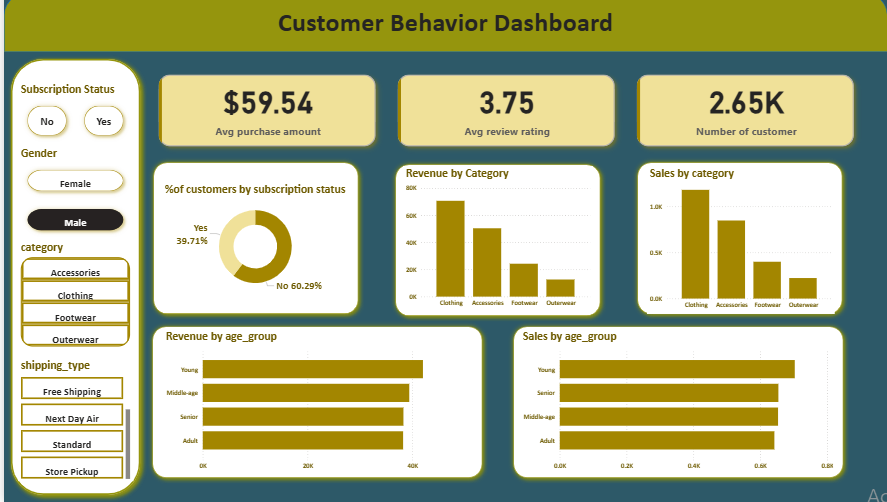

Layout of this report page (visuals, bound fields, positions):
{"tool":"powerbi","page":{"name":"Page 1","canvas":[1600,920],"ordinal":0},"visuals":[{"type":"cardVisual","fields":{"Data":["customer_behavior customer.Avd purchase amount","customer_behavior customer.Avg review rating","customer_behavior customer.Number of customer"]},"box":[259.6,125.5,1302.1,172.3],"z":0},{"type":"shape","box":[0,0,1600,105],"z":1000},{"type":"textbox","box":[159.6,16.8,1280.8,88.2],"z":2000},{"type":"shape","box":[1138.1,296.1,390.6,294],"z":3000},{"type":"shape","box":[699.4,298.2,390.6,294],"z":4000},{"type":"shape","box":[260.4,296.1,390.6,294],"z":5000},{"type":"donutChart","title":"%of customers by subscription status","fields":{"Y":["CountNonNull(customer_behavior customer.customer_id)"],"Category":["customer_behavior customer.subscription_status"]},"box":[285.6,340.2,338.1,207.9],"z":6000},{"type":"clusteredColumnChart","title":"Revenue by Category","fields":{"Category":["customer_behavior customer.category"],"Y":["Sum(customer_behavior customer.purchase_amount($))"]},"box":[722.3,310.8,344.4,264.6],"z":7000},{"type":"columnChart","title":"Sales by category","fields":{"Category":["customer_behavior customer.category"],"Y":["CountNonNull(customer_behavior customer.customer_id)"]},"box":[1163.8,310.6,340.4,268.1],"z":8000},{"type":"shape","box":[0,104.3,259.6,814.9],"z":9000},{"type":"advancedSlicerVisual","title":"Subscription Status","fields":{"Values":["customer_behavior customer.subscription_status"]},"box":[25.5,159.6,208.5,114.9],"z":10000},{"type":"advancedSlicerVisual","title":"Gender","fields":{"Values":["customer_behavior customer.gender"]},"box":[25.5,274.5,208.5,170.2],"z":11000},{"type":"advancedSlicerVisual","fields":{"Values":["customer_behavior customer.category"]},"box":[25.5,444.7,208.5,200],"z":12000},{"type":"advancedSlicerVisual","fields":{"Values":["customer_behavior customer.shipping_type"]},"box":[25.5,659.6,208.5,223.4],"z":13000},{"type":"shape","box":[912.8,591.5,617,293.6],"z":14000},{"type":"shape","box":[259.6,591.5,617,293.6],"z":15000},{"type":"clusteredBarChart","title":"Revenue by age_group","fields":{"Y":["Sum(customer_behavior customer.purchase_amount($))"],"Category":["customer_behavior customer.age_group"]},"box":[287.2,606.4,561.7,263.8],"z":16000},{"type":"clusteredBarChart","title":"Sales by age_group","fields":{"Category":["customer_behavior customer.age_group"],"Y":["CountNonNull(customer_behavior customer.customer_id)"]},"box":[934,606.4,572.3,263.8],"z":17000}]}

Visuals, with their boxes in screenshot pixels (x1, y1, x2, y2), scaled from the page's 1600x920 canvas onto the 887x502 screenshot:
cardVisual - customer_behavior customer.Avd purchase amount x customer_behavior customer.Avg review rating: locate(144, 68, 866, 162)
shape: locate(0, 0, 886, 57)
textbox: locate(88, 9, 799, 57)
shape: locate(631, 162, 847, 322)
shape: locate(388, 163, 604, 323)
shape: locate(144, 162, 361, 322)
"%of customers by subscription status" donutChart: locate(158, 186, 346, 299)
"Revenue by Category" clusteredColumnChart: locate(400, 170, 591, 314)
"Sales by category" columnChart: locate(645, 169, 834, 316)
shape: locate(0, 57, 144, 501)
"Subscription Status" advancedSlicerVisual: locate(14, 87, 130, 150)
"Gender" advancedSlicerVisual: locate(14, 150, 130, 243)
advancedSlicerVisual - customer_behavior customer.category: locate(14, 243, 130, 352)
advancedSlicerVisual - customer_behavior customer.shipping_type: locate(14, 360, 130, 482)
shape: locate(506, 323, 848, 483)
shape: locate(144, 323, 486, 483)
"Revenue by age_group" clusteredBarChart: locate(159, 331, 471, 475)
"Sales by age_group" clusteredBarChart: locate(518, 331, 835, 475)
